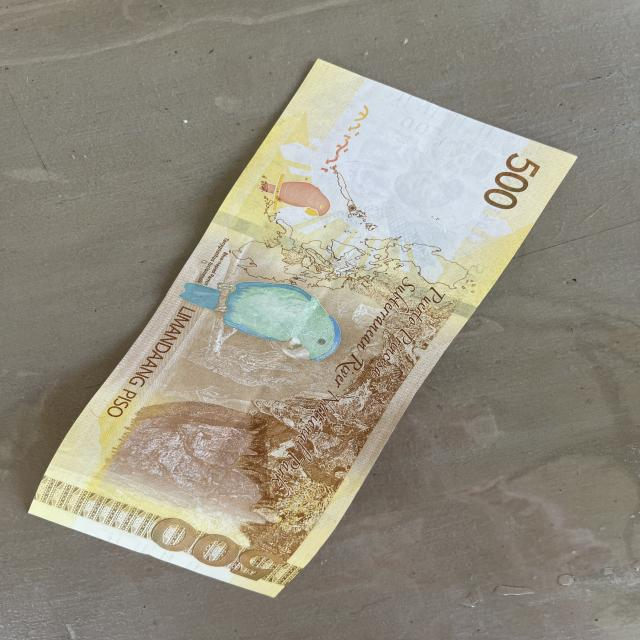500_big_parrot: (182, 278, 350, 365)
500_parrot_watermark: (253, 176, 333, 216)
value_watermark: (394, 116, 443, 140)
watermark: (346, 129, 501, 222)
